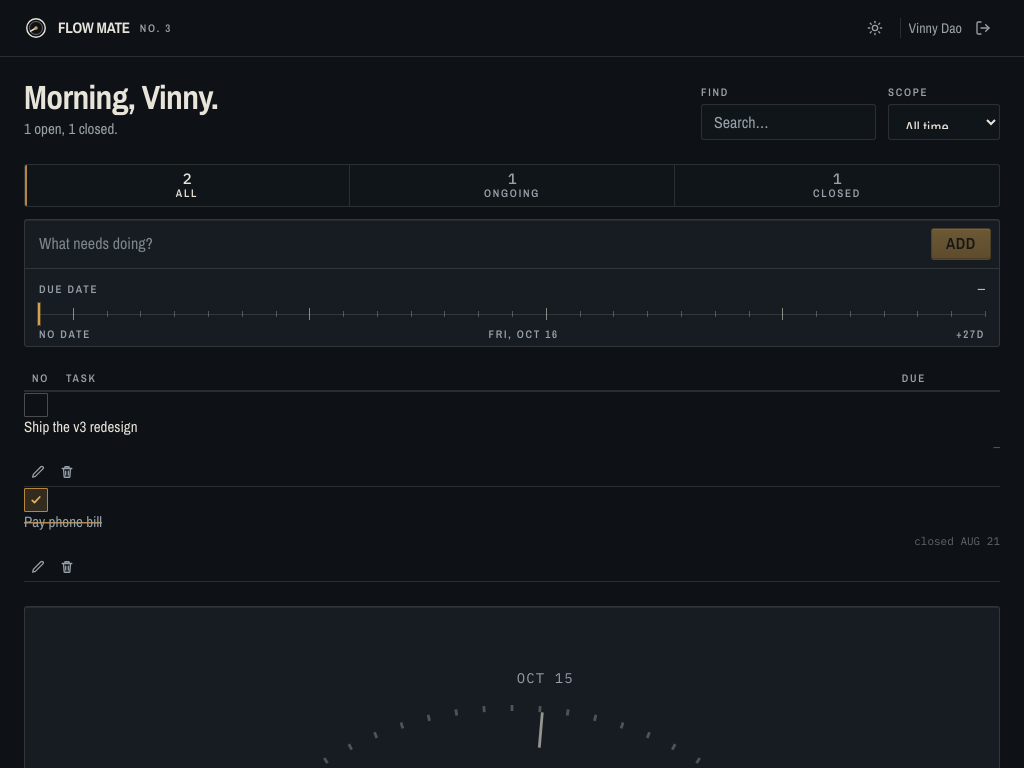
Test: HomePage › adds a task via the composer and clears it optimistically
This screenshot has width=1024, height=768.
Type "Water the plants" into the field with placeholder "What needs doing?".
click(481, 244); type("Water the plants")  # box top-left (39, 228), bottom-right (923, 259)
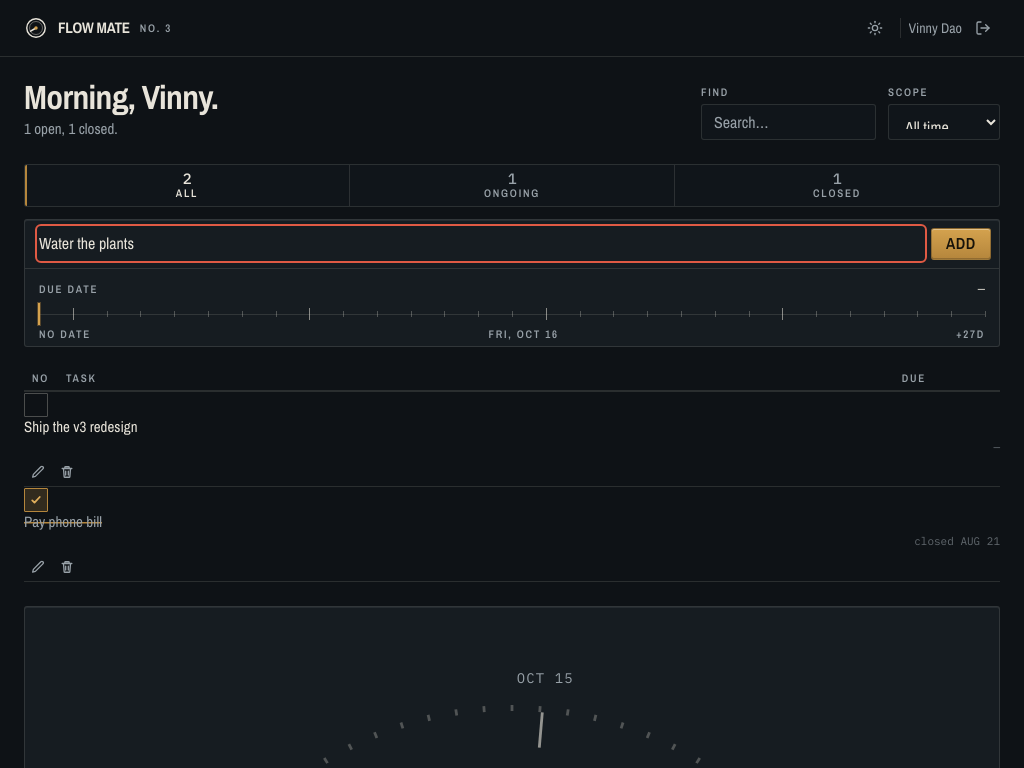
Click the button "Add".
click(961, 244)  # box top-left (931, 228), bottom-right (991, 260)
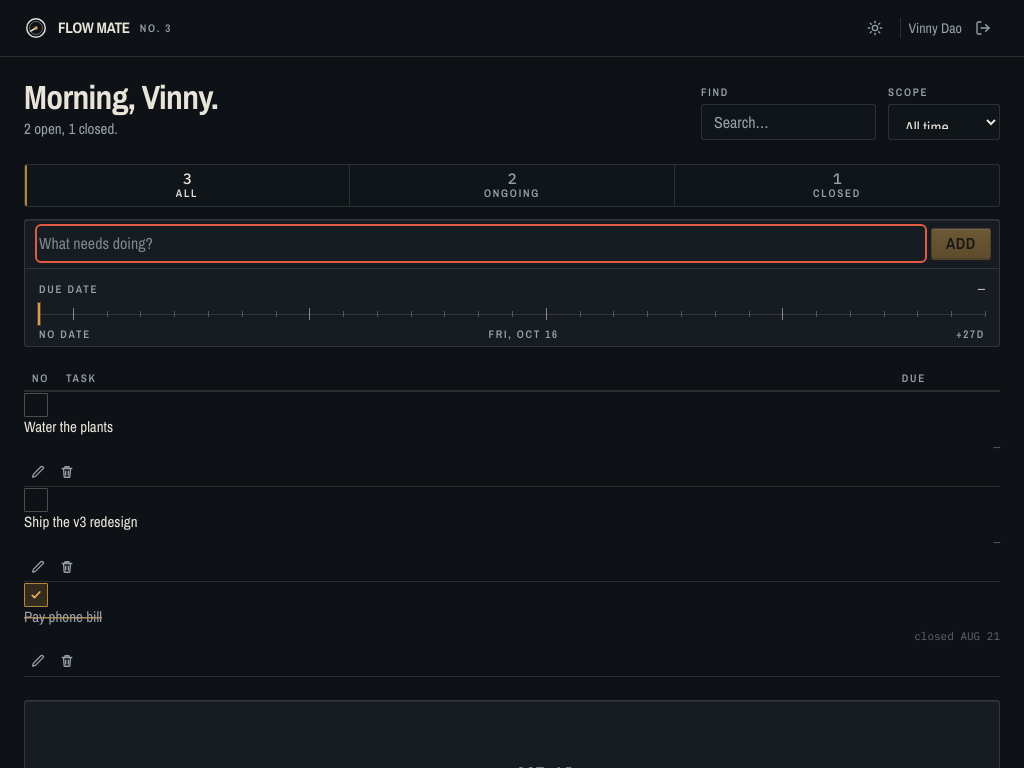
Result: the text "Water the plants" is shown at top-left (24, 416), bottom-right (113, 438)
Result: the field with placeholder "What needs doing?" is empty at top-left (39, 228), bottom-right (923, 259)
